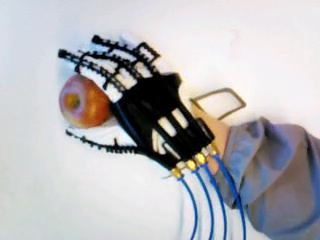apple: (59, 74, 113, 127)
hand: (59, 33, 216, 181)
